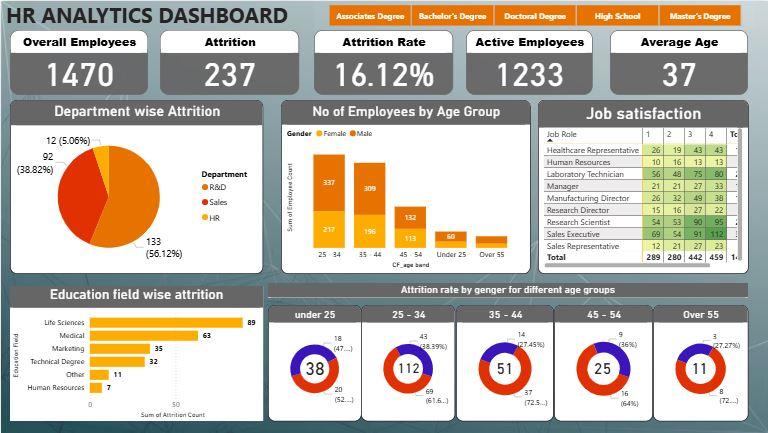

The page's visual inventory and layout, read from the dashboard file:
{"tool":"powerbi","page":{"name":"Page 1","canvas":[1280,720],"ordinal":0},"visuals":[{"type":"card","title":"Overall Employees","fields":{"Values":["Sum(HR data.Employee Count)"]},"box":[15.1,48.9,230.2,107.9],"z":0},{"type":"card","title":"Attrition","fields":{"Values":["Sum(HR data.Attrition Count)"]},"box":[264.3,48.9,231.7,107.9],"z":1000},{"type":"card","title":"Attrition Rate","fields":{"Values":["HR data.Attrition Rate"]},"box":[521.4,48.9,231.7,107.9],"z":2000},{"type":"card","title":"Active Employees","fields":{"Values":["HR data.Active Employees"]},"box":[775.4,48.9,211.1,107.9],"z":3000},{"type":"card","title":"Average Age","fields":{"Values":["Avg(HR data.Age)"]},"box":[1015.1,48.9,230.2,107.9],"z":4000},{"type":"pieChart","title":"Department wise Attrition","fields":{"Category":["HR data.Department"],"Y":["Sum(HR data.Attrition Count)"]},"box":[15.1,165.2,422.2,290.5],"z":5000},{"type":"columnChart","title":"No of Employees by Age Group","fields":{"Category":["HR data.CF_age band"],"Y":["Sum(HR data.Employee Count)"],"Series":["HR data.Gender"]},"box":[465.9,165.2,415.9,290.5],"z":6000},{"type":"pivotTable","title":"Job satisfaction","fields":{"Columns":["HR data.Job Satisfaction"],"Rows":["HR data.Job Role"],"Values":["Sum(HR data.Employee Count)"]},"box":[894.5,165.2,350.8,290.5],"z":7000},{"type":"barChart","title":"Education field wise attrition","fields":{"Category":["HR data.Education Field"],"Y":["Sum(HR data.Attrition Count)"]},"box":[15.1,474.8,422.2,225.4],"z":8000},{"type":"donutChart","title":"under 25","fields":{"Category":["HR data.Gender"],"Y":["Sum(HR data.Attrition Count)"],"Series":["HR data.CF_age band"]},"box":[445.3,506.5,155.6,193.7],"z":9000},{"type":"textbox","title":"                                                                               Attrition rate by genger for different age groups","box":[445.3,470,800,25.4],"z":10000},{"type":"donutChart","title":"25 - 34","fields":{"Category":["HR data.Gender"],"Y":["Sum(HR data.Attrition Count)"],"Series":["HR data.CF_age band"]},"box":[600.8,506.5,157.1,193.7],"z":11000},{"type":"donutChart","title":"35 - 44","fields":{"Category":["HR data.Gender"],"Y":["Sum(HR data.Attrition Count)"],"Series":["HR data.CF_age band"]},"box":[758,506.5,163.5,193.7],"z":12000},{"type":"donutChart","title":"45 - 54","fields":{"Category":["HR data.Gender"],"Y":["Sum(HR data.Attrition Count)"],"Series":["HR data.CF_age band"]},"box":[921.4,506.5,165.1,193.7],"z":13000},{"type":"donutChart","title":"Over 55","fields":{"Category":["HR data.Gender"],"Y":["Sum(HR data.Attrition Count)"],"Series":["HR data.CF_age band"]},"box":[1086.5,506.5,158.7,193.7],"z":14000},{"type":"card","fields":{"Values":["Sum(HR data.Attrition Count)"]},"box":[486.5,574.8,73,71.4],"z":14001},{"type":"card","fields":{"Values":["Sum(HR data.Attrition Count)"]},"box":[650,587.5,58.7,50.8],"z":14002},{"type":"card","fields":{"Values":["Sum(HR data.Attrition Count)"]},"box":[810.3,585.9,58.7,50.8],"z":14003},{"type":"card","fields":{"Values":["Sum(HR data.Attrition Count)"]},"box":[973.8,587.5,58.7,50.8],"z":14004},{"type":"card","fields":{"Values":["Sum(HR data.Attrition Count)"]},"box":[1135.7,587.5,58.7,50.8],"z":14005},{"type":"textbox","title":"HR ANALYTICS DASHBOARD","box":[0,0,486.5,40.3],"z":14006},{"type":"slicer","fields":{"Values":["HR data.Education"]},"box":[521.7,0,735,48.3],"z":14007}]}

Visuals, with their boxes in screenshot pixels (x1, y1, x2, y2), scaled from the page's 1280x720 canvas onto the 768x433 screenshot:
"Overall Employees" card: [9,29,147,94]
"Attrition" card: [159,29,298,94]
"Attrition Rate" card: [313,29,452,94]
"Active Employees" card: [465,29,592,94]
"Average Age" card: [609,29,747,94]
"Department wise Attrition" pieChart: [9,99,262,274]
"No of Employees by Age Group" columnChart: [280,99,529,274]
"Job satisfaction" pivotTable: [537,99,747,274]
"Education field wise attrition" barChart: [9,286,262,421]
"under 25" donutChart: [267,305,361,421]
"                                                                               Attrition rate by genger for different age groups" textbox: [267,283,747,298]
"25 - 34" donutChart: [360,305,455,421]
"35 - 44" donutChart: [455,305,553,421]
"45 - 54" donutChart: [553,305,652,421]
"Over 55" donutChart: [652,305,747,421]
card - Sum(HR data.Attrition Count): [292,346,336,389]
card - Sum(HR data.Attrition Count): [390,353,425,384]
card - Sum(HR data.Attrition Count): [486,352,521,383]
card - Sum(HR data.Attrition Count): [584,353,620,384]
card - Sum(HR data.Attrition Count): [681,353,717,384]
"HR ANALYTICS DASHBOARD" textbox: [0,0,292,24]
slicer - HR data.Education: [313,0,754,29]
